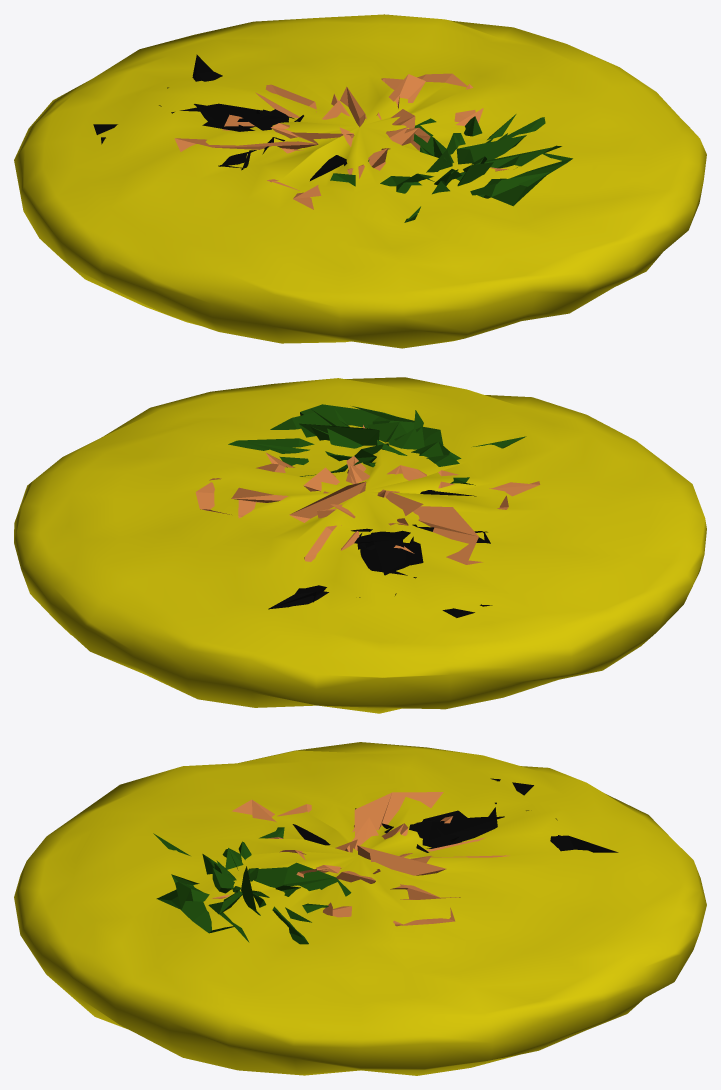
The model's file is omletteCooking.fbx.
3 views of the same model, one above another, from view 1: azimuth 30°, elevation 25°; view 2: azimuth 150°, elevation 25°; view 3: azimuth 270°, elevation 25° (orthographic).
Parts seen in each view (by area): view 1: eggs, spices2, spices1, saltnpepper; view 2: eggs, spices1, spices2, saltnpepper; view 3: eggs, spices2, spices1, saltnpepper.
Boxes of the visible parts, left/top/right/bottom form: eggs: left=14, top=14, right=706, bottom=348; spices2: left=330, top=114, right=572, bottom=222; spices1: left=174, top=73, right=508, bottom=209; saltnpepper: left=93, top=54, right=347, bottom=180; eggs: left=14, top=377, right=706, bottom=713; spices1: left=195, top=425, right=540, bottom=564; spices2: left=228, top=404, right=526, bottom=485; saltnpepper: left=268, top=490, right=492, bottom=617; eggs: left=14, top=742, right=706, bottom=1075; spices2: left=153, top=827, right=351, bottom=944; spices1: left=212, top=792, right=509, bottom=926; saltnpepper: left=292, top=778, right=618, bottom=852.
Size of the model in its own units: 396 by 79.78 by 396.
